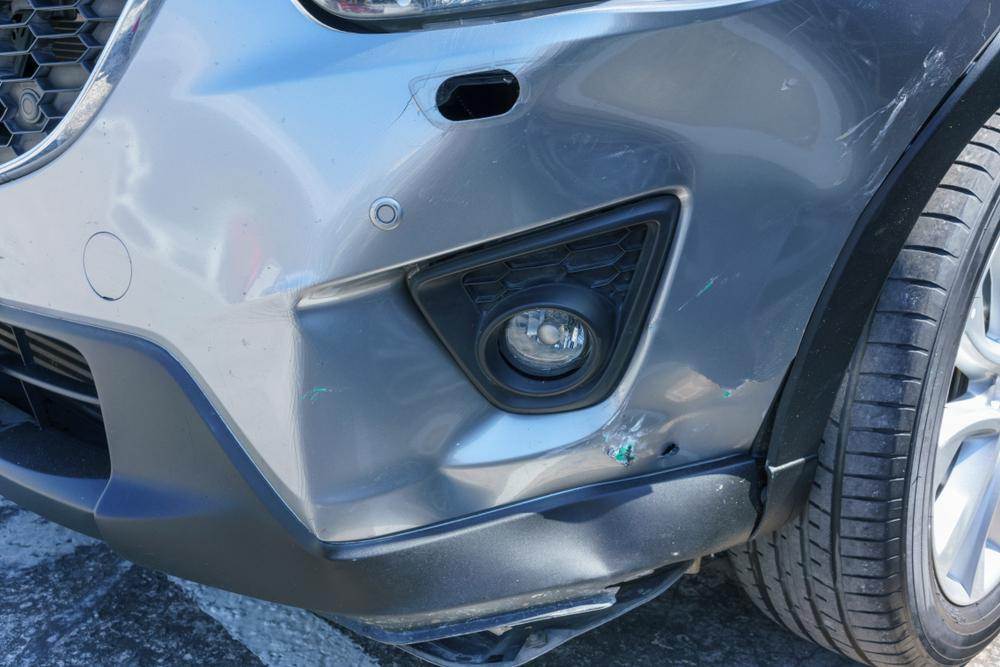dent: (290, 311, 660, 570), (642, 149, 849, 418), (119, 93, 352, 302)
scratch: (834, 41, 957, 205)
